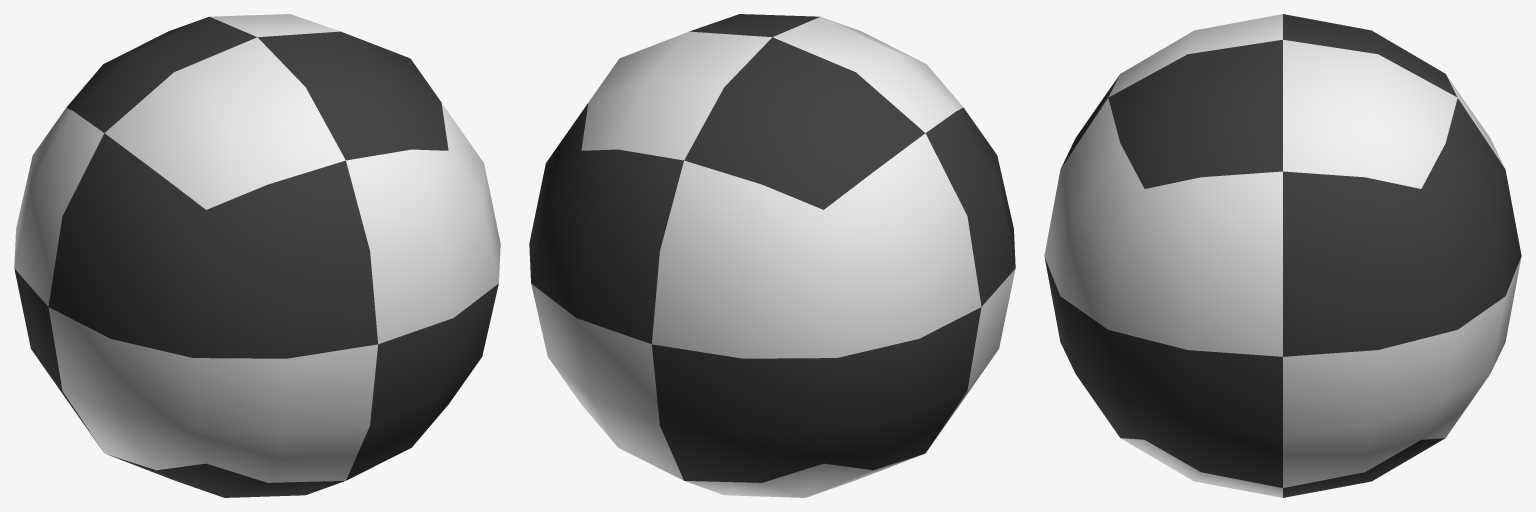
File: Football.fbx
The picture shows the model from 3 angles, left to right: view 1: azimuth 30°, elevation 25°; view 2: azimuth 150°, elevation 25°; view 3: azimuth 270°, elevation 25°; orthographic projection.
Parts seen in each view (by area): view 1: Football; view 2: Football; view 3: Football.
Boxes of the visible parts, <box> form: Football: <box>14,14,500,497</box>; Football: <box>529,14,1015,497</box>; Football: <box>1044,14,1521,497</box>.
Bounding box in the file's own units: 0.00878 × 0.00878 × 0.00878.
Materials: 1 (1 with a texture image).
